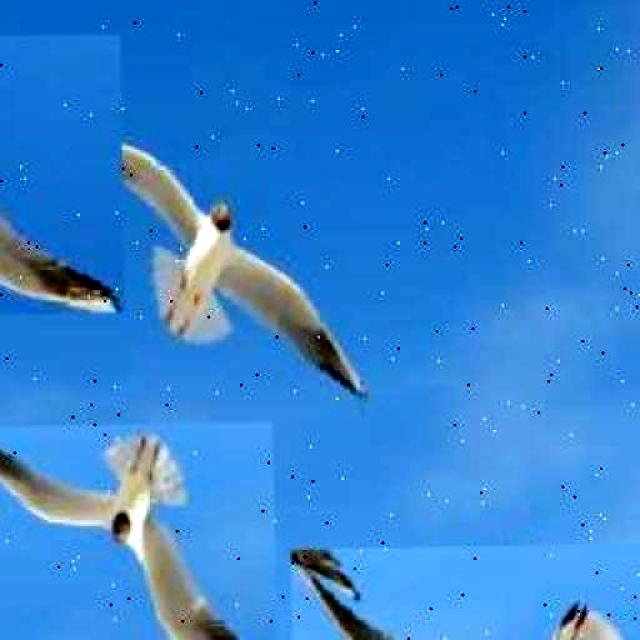airplane: (52, 118, 364, 411), (0, 421, 276, 640), (0, 35, 124, 319), (290, 541, 640, 640)
